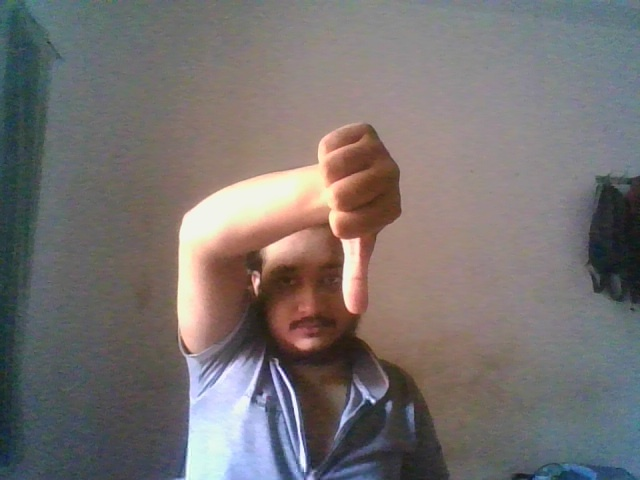ThumbsDown: (317, 121, 405, 316)
